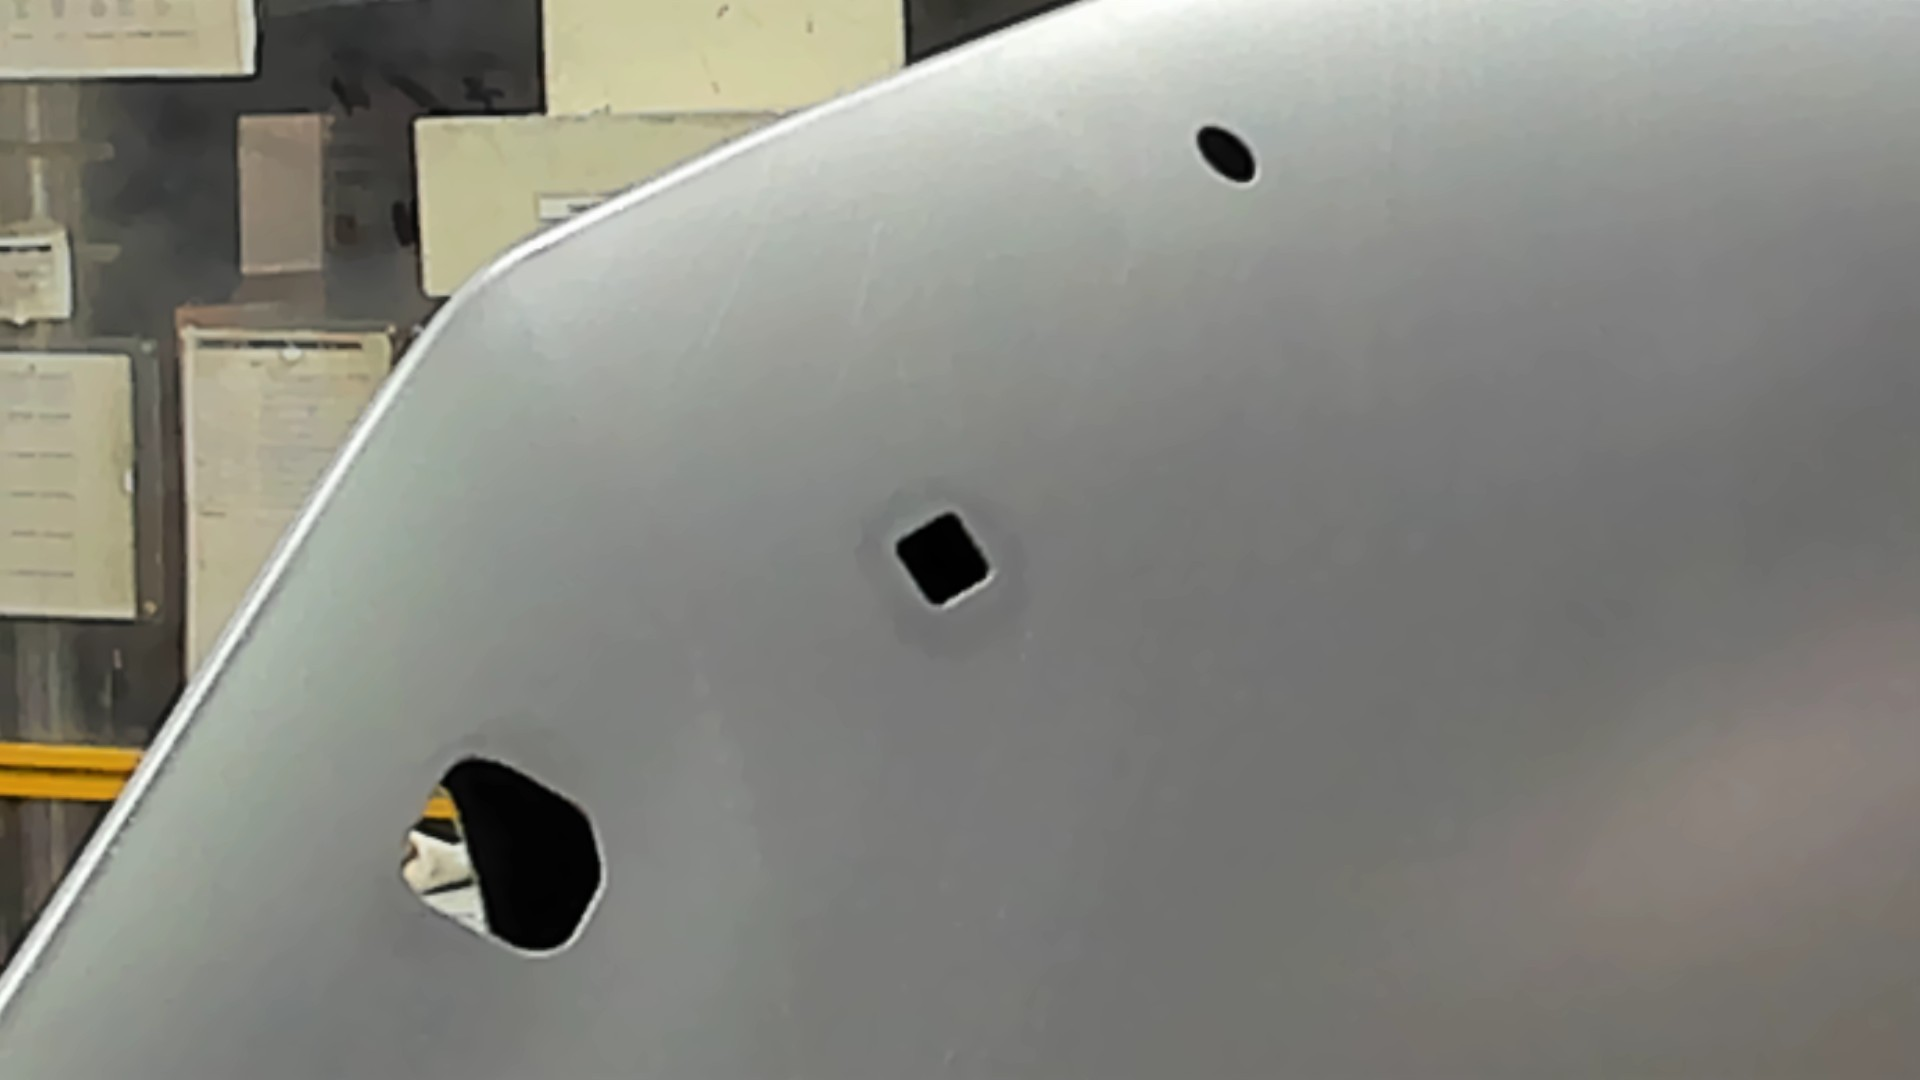chico: (1191, 117, 1263, 191)
grande: (396, 750, 616, 967)
mediano: (886, 504, 1000, 618)
